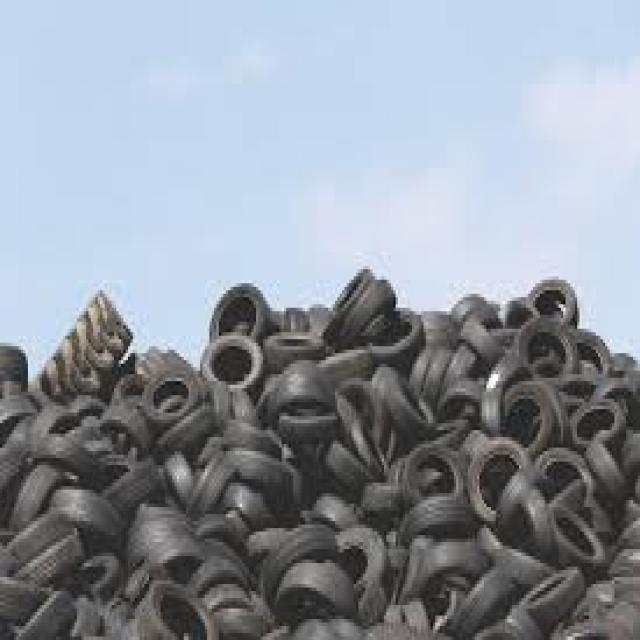Rubber -Non-Biodegradable but Recyclable-: (0, 263, 640, 638)
